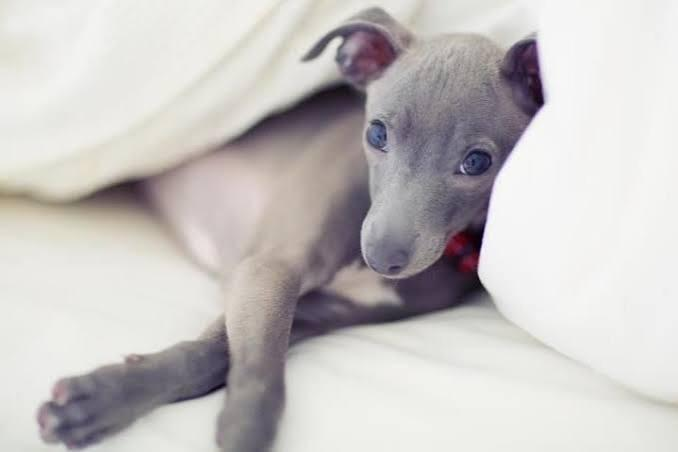puppy-dog: (24, 5, 547, 452)
